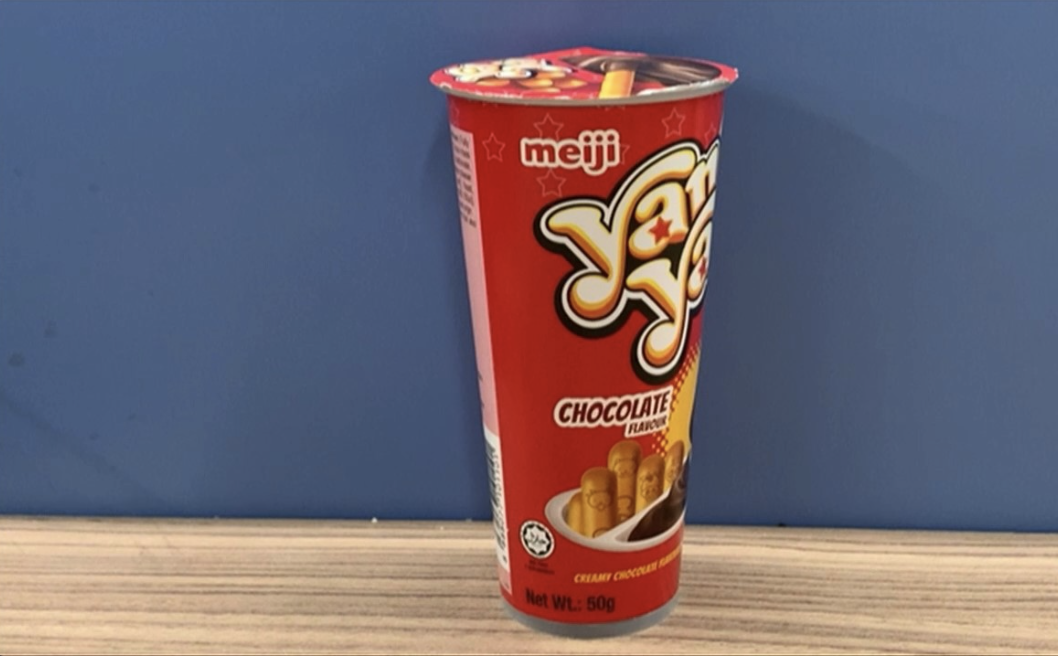crackers_1g-99g: (498, 115, 680, 610)
